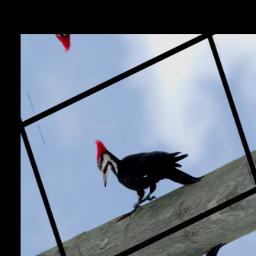Woodpecker: (89, 100, 205, 226)
